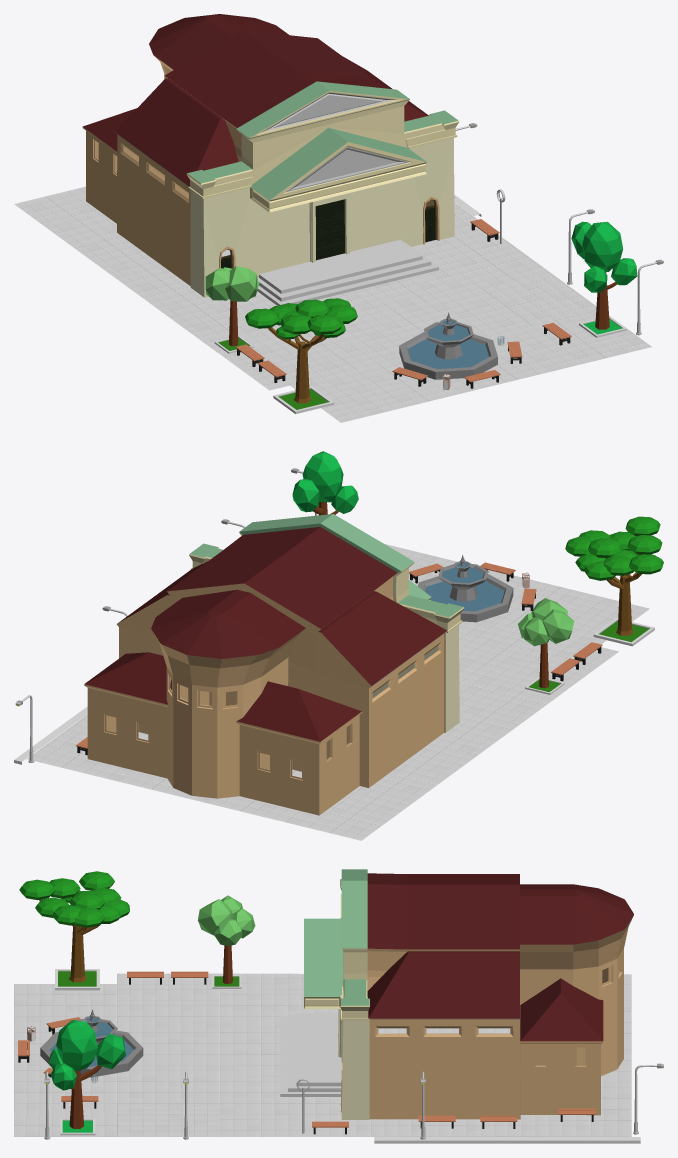
File: city_hall.glb
3 renders of one model, top to bottom at view 1: azimuth 30°, elevation 25°; view 2: azimuth 150°, elevation 25°; view 3: azimuth 270°, elevation 25°, orthographic.
Parts seen in each view (by area): view 1: Struttura_Colore_0.001, Plane.089_Marcapiede_0.001, Base.001_Colore_0.001, Fontana_Colore_0.001, Tree.010_Colore_0.001, Plane.102_Marcapiede_0.001, Retro_Colore_0.001, Plane.110_Marcapiede_0.001, Tree.026_Colore_0.001, Plane.112_Marcapiede_0.001, Plane.111_Marcapiede_0.001, Plane.113_Marcapiede_0.001 (+6 smaller); view 2: Struttura_Colore_0.001, Retro2_Colore_0.001, Retro_Colore_0.001, Plane.089_Marcapiede_0.001, Tree.010_Colore_0.001, Fontana_Colore_0.001, Plane.011_Marcapiede_0.001, Tree.026_Colore_0.001, Plane.102_Marcapiede_0.001, Tree.027_Colore_0.001, Plane.111_Marcapiede_0.001, Plane.106_Marcapiede_0.001 (+3 smaller); view 3: Struttura_Colore_0.001, Plane.089_Marcapiede_0.001, Retro_Colore_0.001, Retro2_Colore_0.001, Base.001_Colore_0.001, Tree.010_Colore_0.001, Plane.112_Marcapiede_0.001, Plane.011_Marcapiede_0.001, Plane.111_Marcapiede_0.001, Tree.026_Colore_0.001, Plane.102_Marcapiede_0.001, Plane.113_Marcapiede_0.001 (+9 smaller).
Boxes of the visible parts, x1,y1,x2,y2 form: Struttura_Colore_0.001: (115,30,459,297); Plane.089_Marcapiede_0.001: (14,186,549,352); Base.001_Colore_0.001: (257,239,438,305); Fontana_Colore_0.001: (399,312,497,379); Tree.010_Colore_0.001: (245,298,357,403); Plane.102_Marcapiede_0.001: (290,364,428,422); Retro_Colore_0.001: (149,14,289,78); Plane.110_Marcapiede_0.001: (485,320,605,379); Tree.026_Colore_0.001: (571,221,637,329); Plane.112_Marcapiede_0.001: (394,289,532,337); Plane.111_Marcapiede_0.001: (307,310,423,369); Plane.113_Marcapiede_0.001: (482,272,596,325); Struttura_Colore_0.001: (116,514,463,787); Retro2_Colore_0.001: (84,652,362,815); Retro_Colore_0.001: (151,589,305,798); Plane.089_Marcapiede_0.001: (26,663,567,840); Tree.010_Colore_0.001: (565,516,663,635); Fontana_Colore_0.001: (417,555,513,622); Plane.011_Marcapiede_0.001: (480,637,618,689); Tree.026_Colore_0.001: (292,451,358,515); Plane.102_Marcapiede_0.001: (509,587,649,644); Tree.027_Colore_0.001: (518,598,574,688); Plane.111_Marcapiede_0.001: (459,619,521,667); Plane.106_Marcapiede_0.001: (487,570,560,624); Struttura_Colore_0.001: (304,869,520,1119); Plane.089_Marcapiede_0.001: (220,973,631,1136); Retro_Colore_0.001: (520,884,633,1079); Retro2_Colore_0.001: (520,978,603,1115); Base.001_Colore_0.001: (280,1013,341,1096); Tree.010_Colore_0.001: (19,871,129,982); Plane.112_Marcapiede_0.001: (117,1060,219,1103); Plane.011_Marcapiede_0.001: (117,973,219,1016); Plane.111_Marcapiede_0.001: (117,1016,219,1059); Tree.026_Colore_0.001: (49,1020,125,1128); Plane.102_Marcapiede_0.001: (14,984,116,1027); Plane.113_Marcapiede_0.001: (117,1103,219,1136).
Bounding box in the file's own units: 35.39 × 15.47 × 50.51.
Materials: 3 (2 with a texture image).
